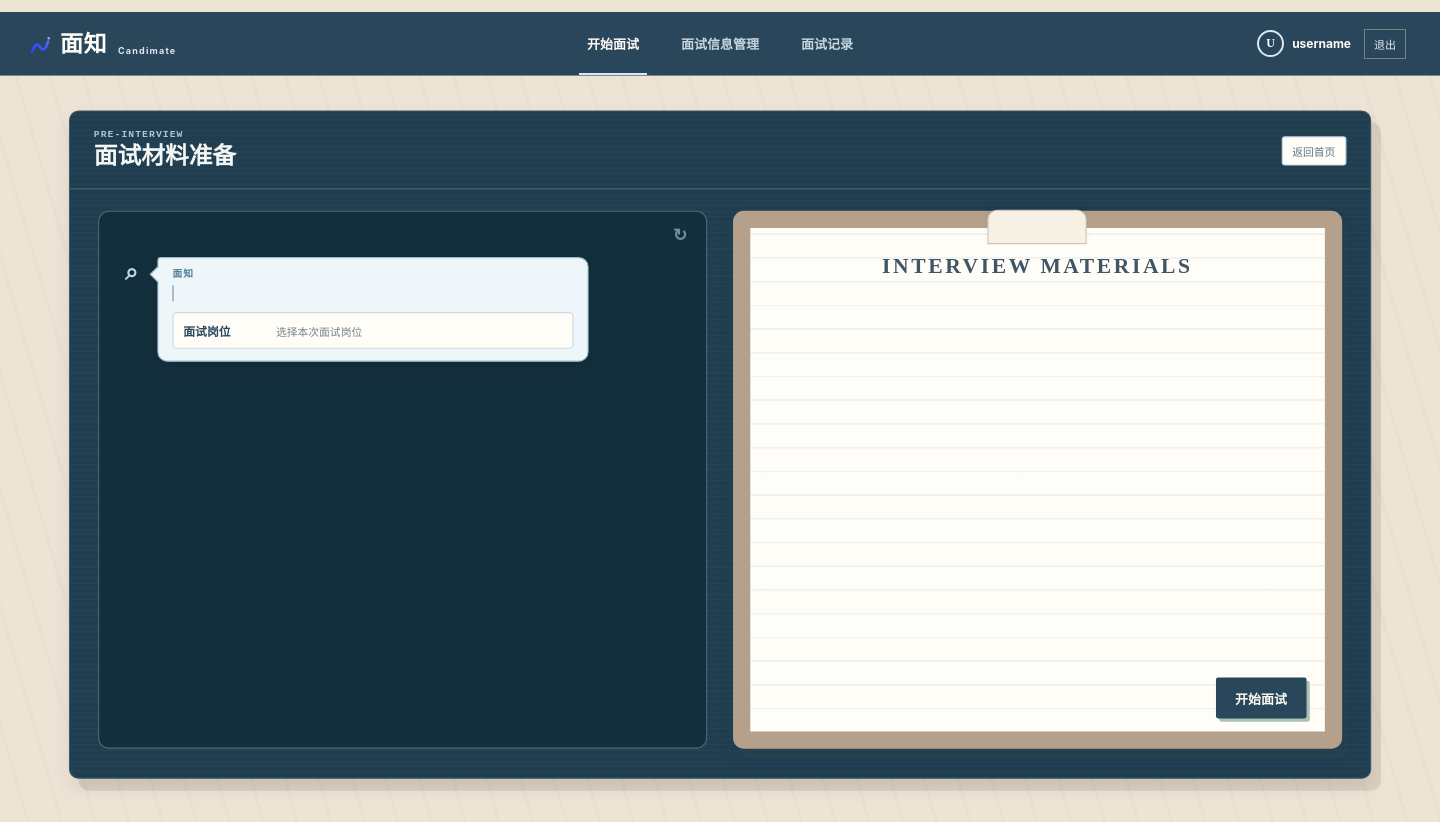
Scenario: CreateInterviewPage 开始面试页（v2.0 对话引导式） › 未选择岗位时开始面试被拦截并提示
Click the 2nd button "开始面试": (1261,698) [1216,678,1306,718]
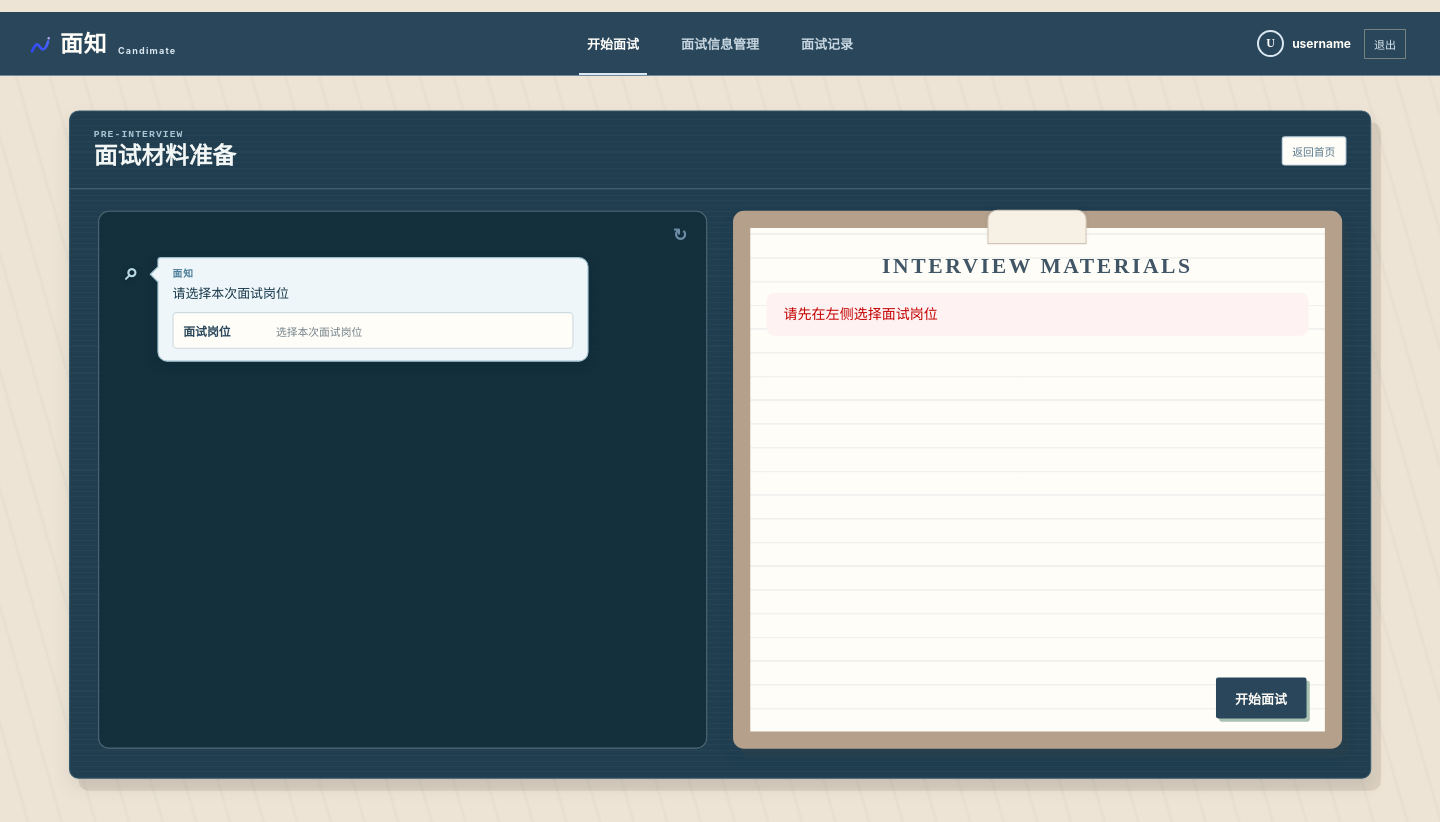
Check: the text "请先在左侧选择面试岗位" is shown, box [766,293,1308,335]
